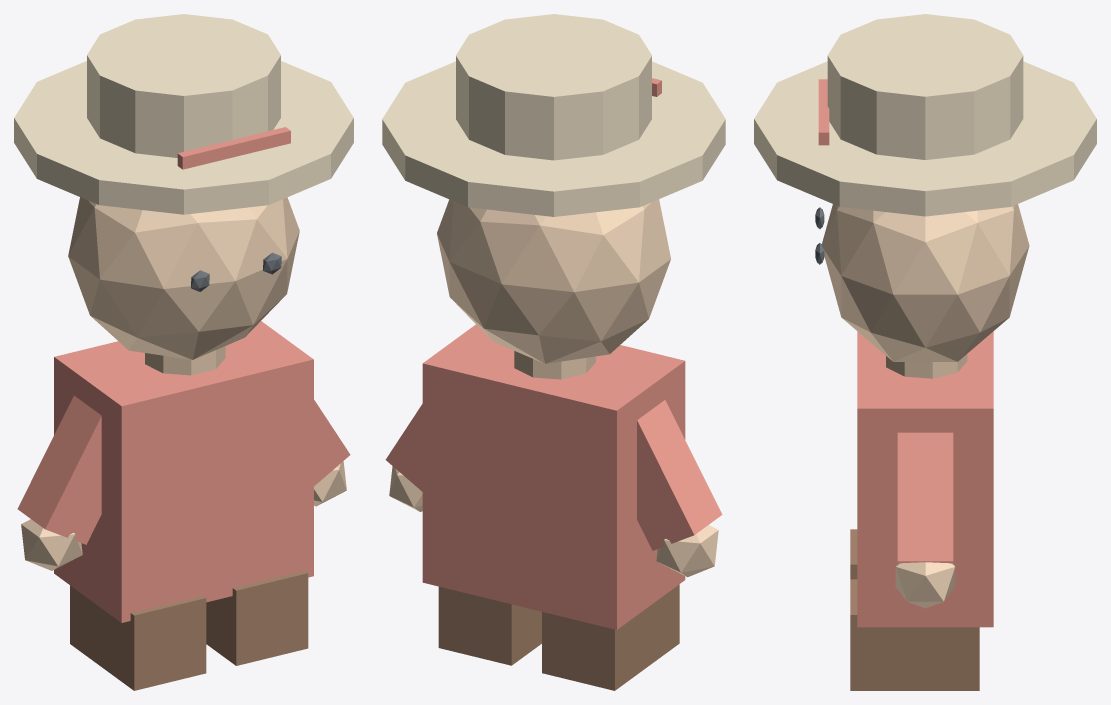
The model's file is guest_01.glb.
The picture shows the model from 3 angles, left to right: view 1: azimuth 30°, elevation 25°; view 2: azimuth 150°, elevation 25°; view 3: azimuth 270°, elevation 25°; orthographic projection.
Visible parts, largest first — view 1: short overalls, head, farmer straw hat, farmer hat crown, boot, arm, boot.001, hat ribbon, hand, arm.001, round neck, hand.001; view 2: short overalls, head, farmer straw hat, farmer hat crown, boot, arm, boot.001, hand, arm.001, round neck, hand.001; view 3: short overalls, farmer straw hat, head, farmer hat crown, boot.001, arm.001, hand.001, round neck, hat ribbon.
Boxes of the visible parts, x1,y1,x2,y2 form: short overalls: (54,321,313,622); head: (68,197,299,359); farmer straw hat: (14,61,353,214); farmer hat crown: (87,14,280,157); boot: (70,585,206,690); arm: (17,395,101,544); boot.001: (206,570,308,665); hat ribbon: (177,127,290,169); hand: (21,519,82,570); arm.001: (314,400,350,485); round neck: (145,346,225,375); hand.001: (314,461,346,506); short overalls: (422,324,685,629); head: (437,199,670,363); farmer straw hat: (382,61,725,216); farmer hat crown: (456,14,651,160); boot: (542,584,679,690); arm: (637,400,722,550); boot.001: (438,586,541,665); hand: (656,525,718,577); arm.001: (385,404,422,491); round neck: (514,351,595,379); hand.001: (389,466,422,511); short overalls: (857,331,993,627); farmer straw hat: (754,61,1096,216); head: (822,204,1029,361); farmer hat crown: (827,14,1023,159); boot.001: (850,579,979,690); arm.001: (897,432,953,563); hand.001: (895,562,955,608); round neck: (886,354,967,378); hat ribbon: (818,79,829,145).
Bounding box in the file's own units: 1.06 × 1.87 × 0.98.
